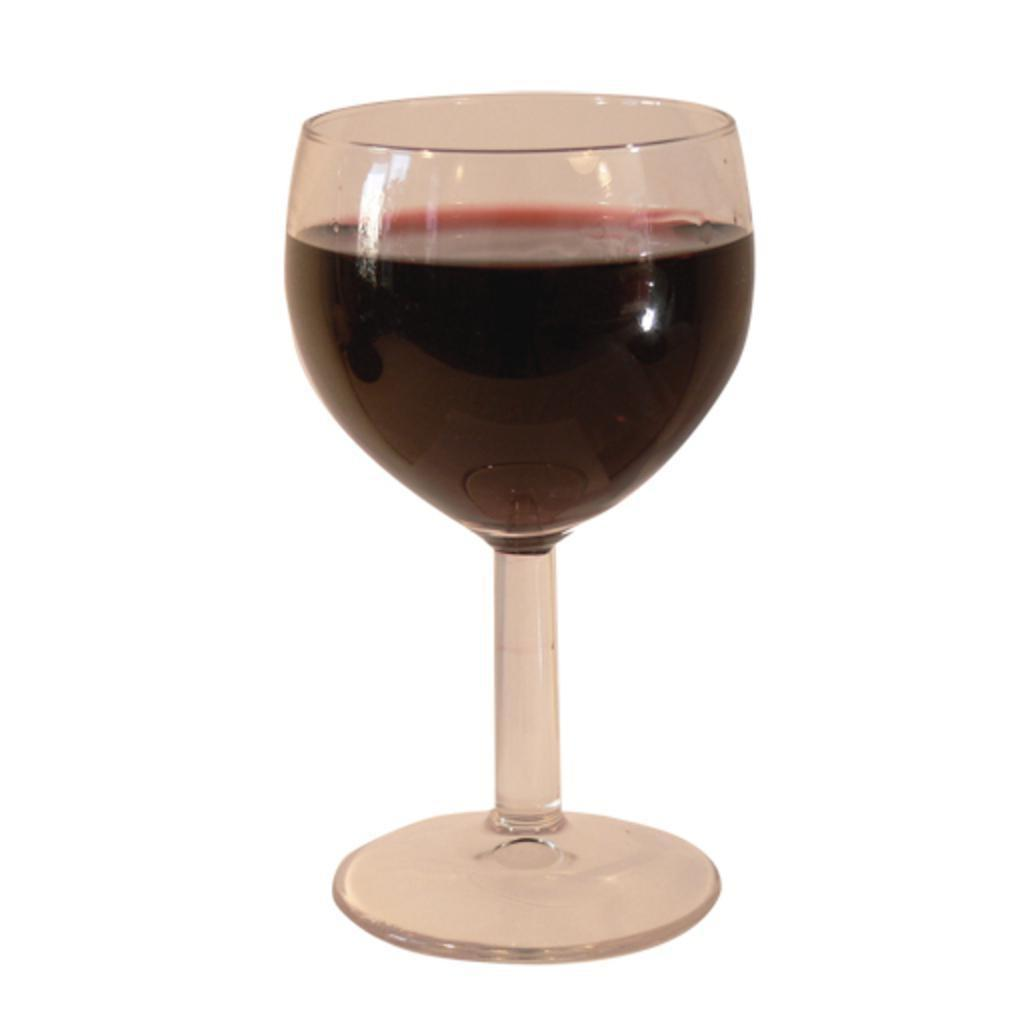glass-wine: (284, 94, 754, 960)
